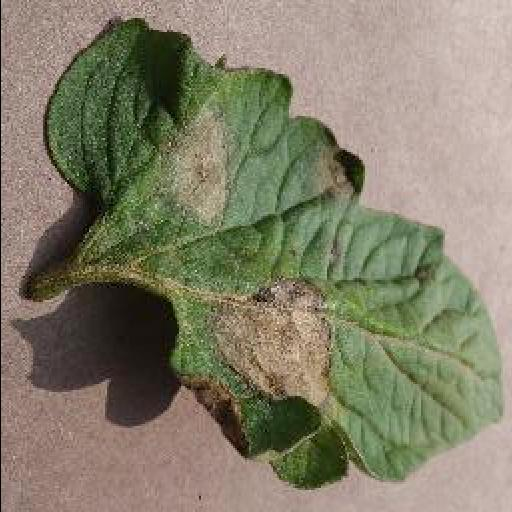disease_tomato: (44, 20, 506, 492)
